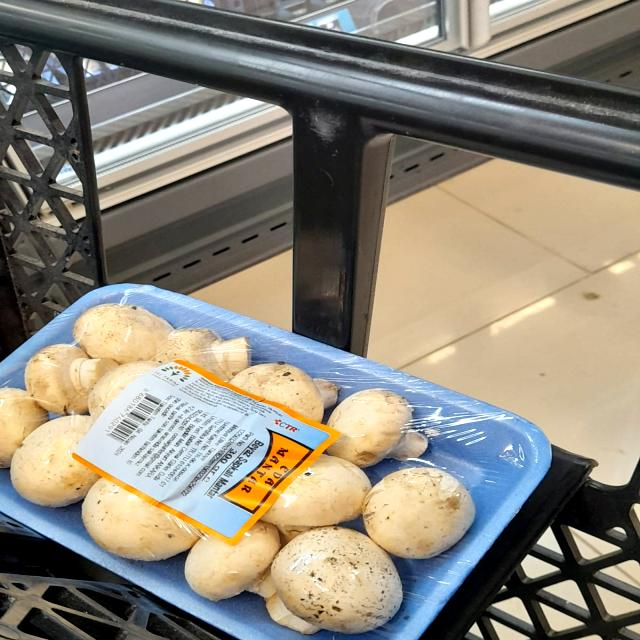mushroom: (261, 523, 407, 640), (360, 465, 488, 562), (324, 381, 448, 474), (65, 293, 180, 369)
